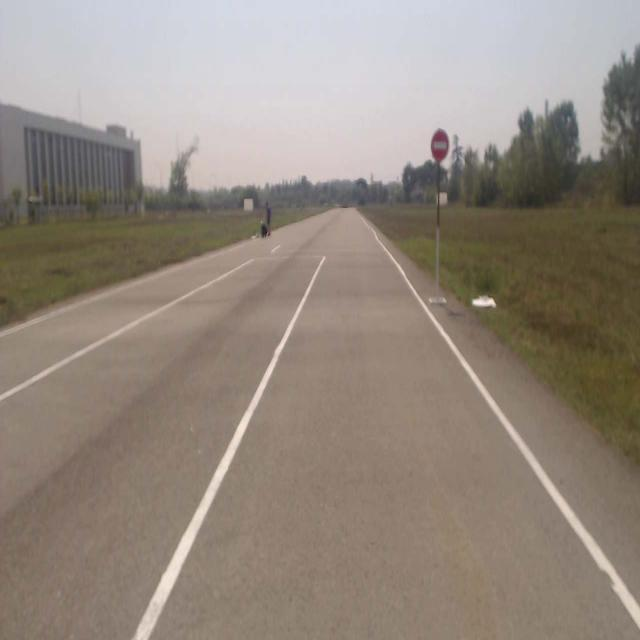girisyok: (430, 127, 450, 160)
